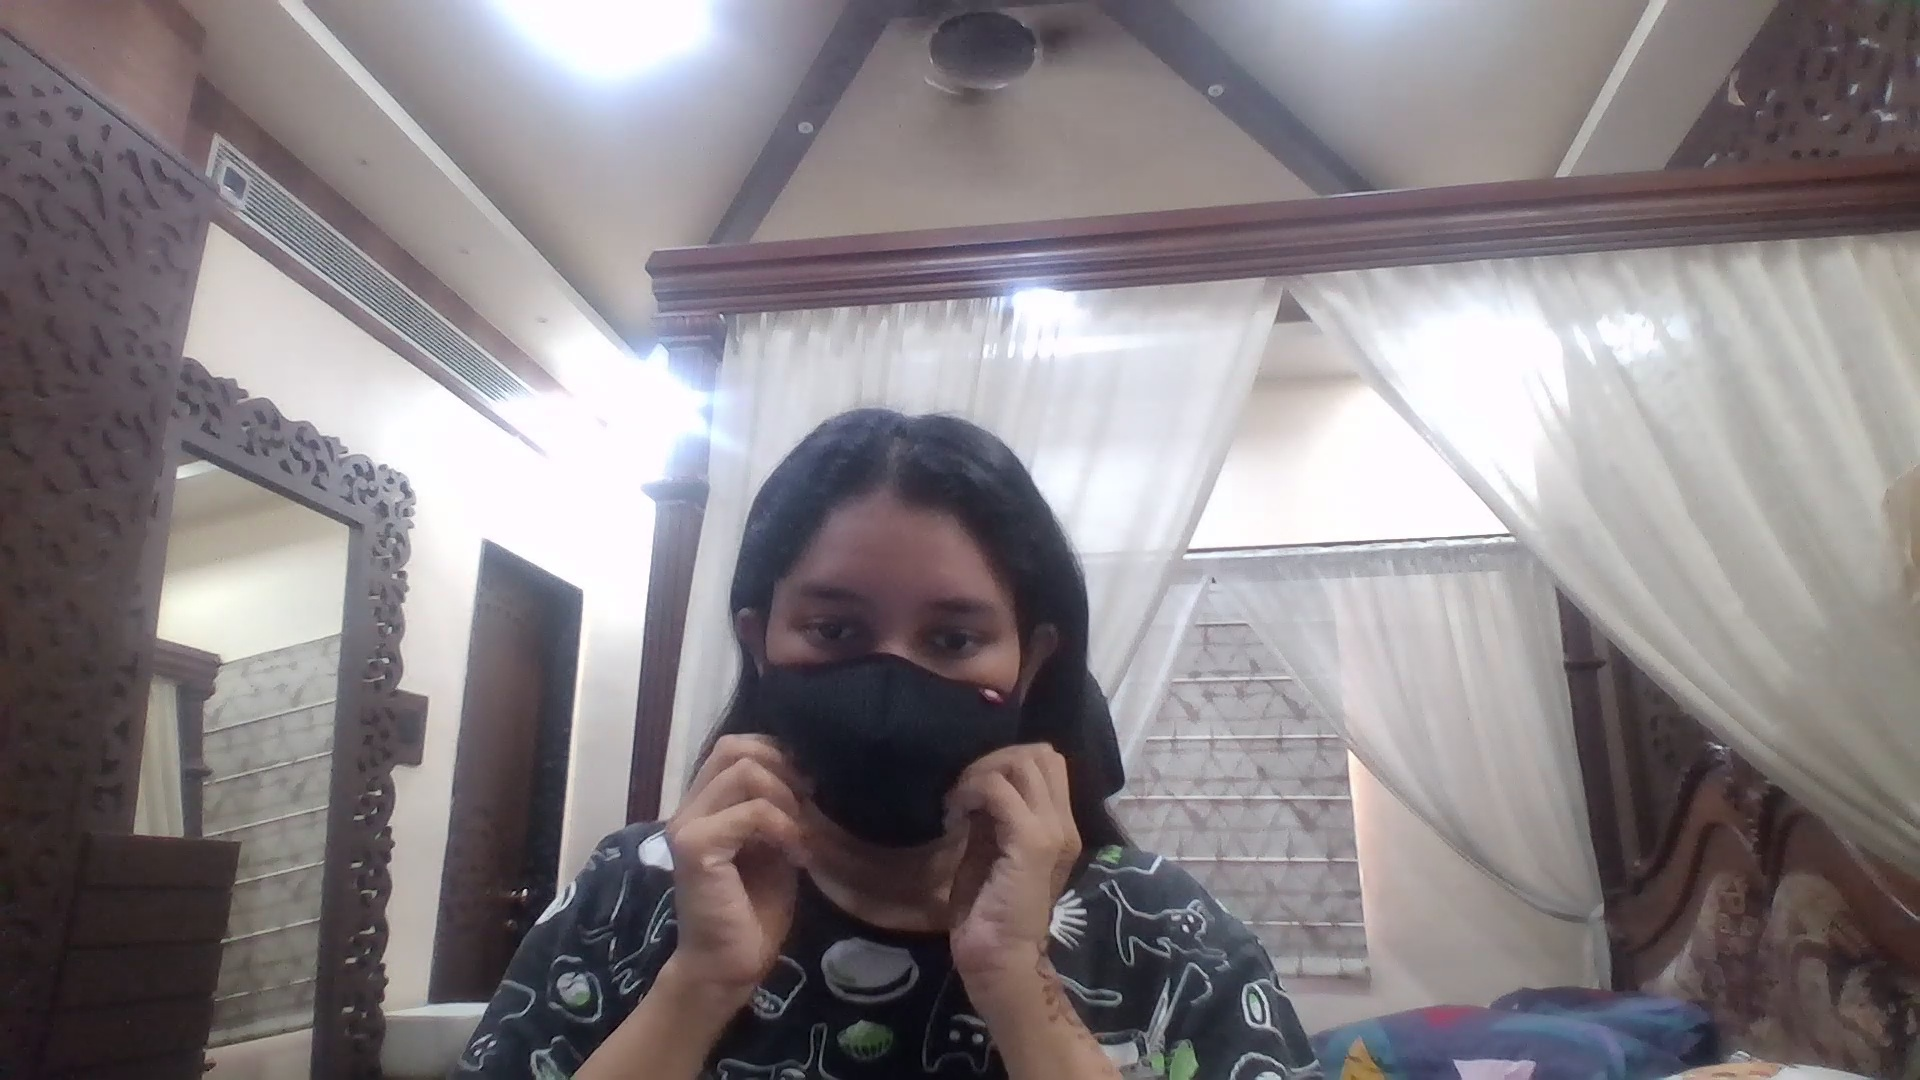Mask: (767, 663, 1007, 841)
